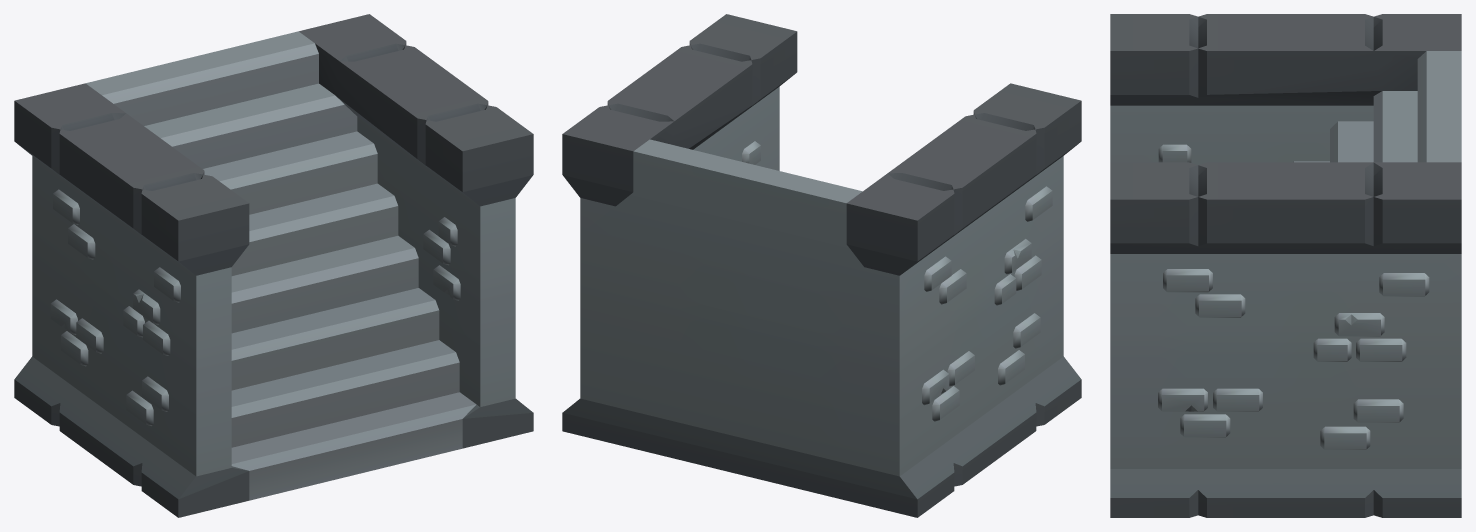
File: stairs_walled.glb
3 renders of one model, left to right at view 1: azimuth 30°, elevation 25°; view 2: azimuth 150°, elevation 25°; view 3: azimuth 270°, elevation 25°, orthographic. The views are drawn at different scales.
Parts seen in each view (by area): view 1: stairs_walled; view 2: stairs_walled; view 3: stairs_walled.
Part boxes in pixels (box(x1,y1,x2,y2)): stairs_walled: box(14, 14, 533, 517); stairs_walled: box(562, 14, 1081, 517); stairs_walled: box(1110, 14, 1461, 517).
Size of the model in its own units: 5 by 4 by 4.
1 material, 1 textured.
